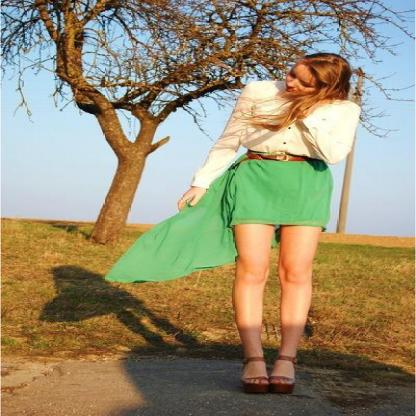shirt: (191, 75, 365, 188)
shoe: (239, 374, 293, 396)
skirt: (104, 153, 336, 283)
